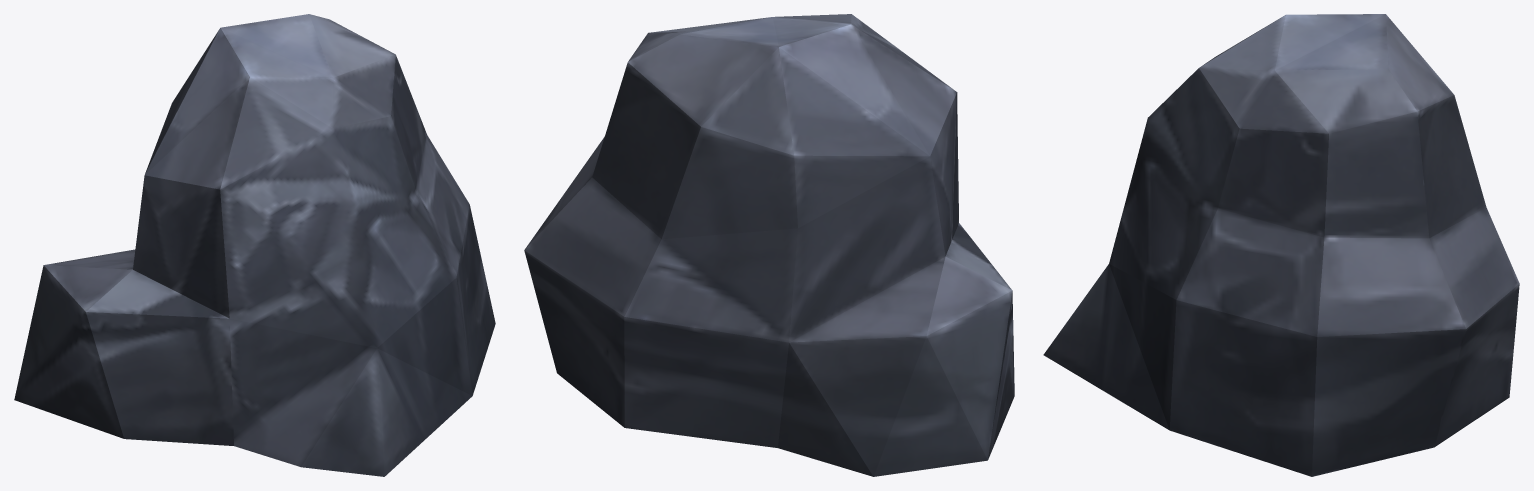
The model's file is OutdoorM_Boulder_a.FBX.
3 views of the same model, side by side, from view 1: azimuth 30°, elevation 25°; view 2: azimuth 150°, elevation 25°; view 3: azimuth 270°, elevation 25° (orthographic). The views are drawn at different scales.
Visible parts, largest first — view 1: OutdoorM_Boulder_a; view 2: OutdoorM_Boulder_a; view 3: OutdoorM_Boulder_a.
Boxes of the visible parts, left/top/right/bottom form: OutdoorM_Boulder_a: left=14, top=14, right=495, bottom=476; OutdoorM_Boulder_a: left=524, top=14, right=1014, bottom=476; OutdoorM_Boulder_a: left=1043, top=14, right=1519, bottom=476.
Bounding box in the file's own units: 34.11 × 24.37 × 30.82.
